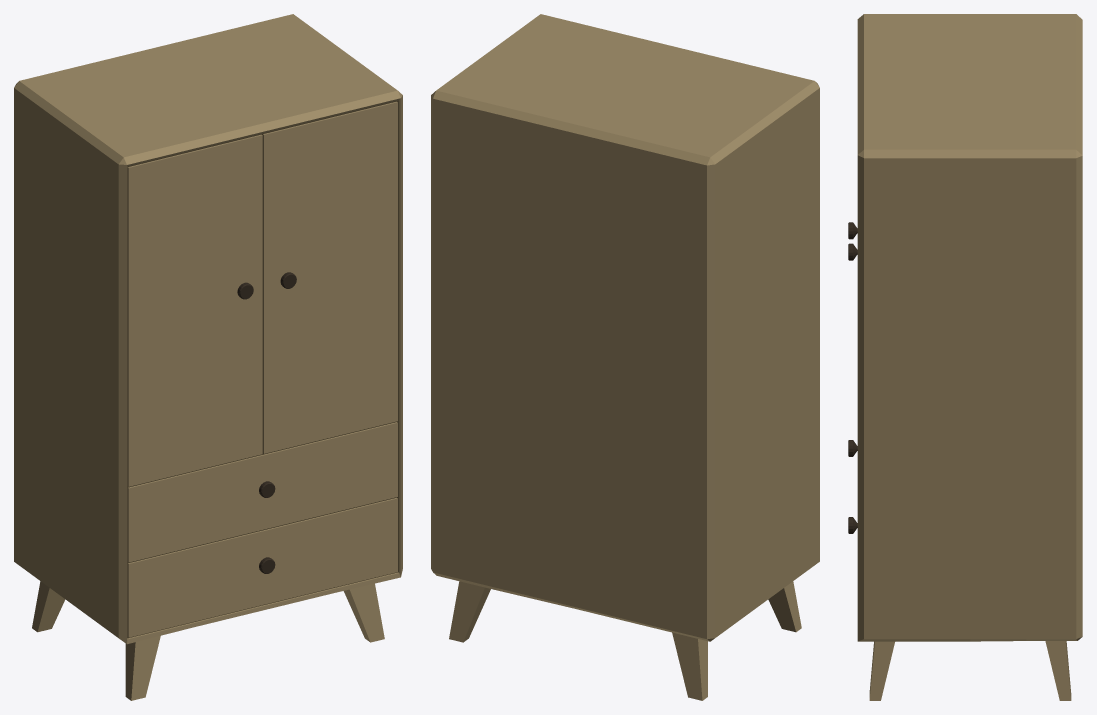
Rendered from generic Wardrobe.fbx.
The picture shows the model from 3 angles, left to right: view 1: azimuth 30°, elevation 25°; view 2: azimuth 150°, elevation 25°; view 3: azimuth 270°, elevation 25°; orthographic projection.
Visible parts, largest first — view 1: Cube; view 2: Cube; view 3: Cube.
Part boxes in pixels (x1,y1,x2,y2): Cube: [14, 14, 402, 700]; Cube: [431, 14, 819, 700]; Cube: [848, 14, 1082, 700].
Bounding box in the file's own units: 100 × 184 × 70.52.
